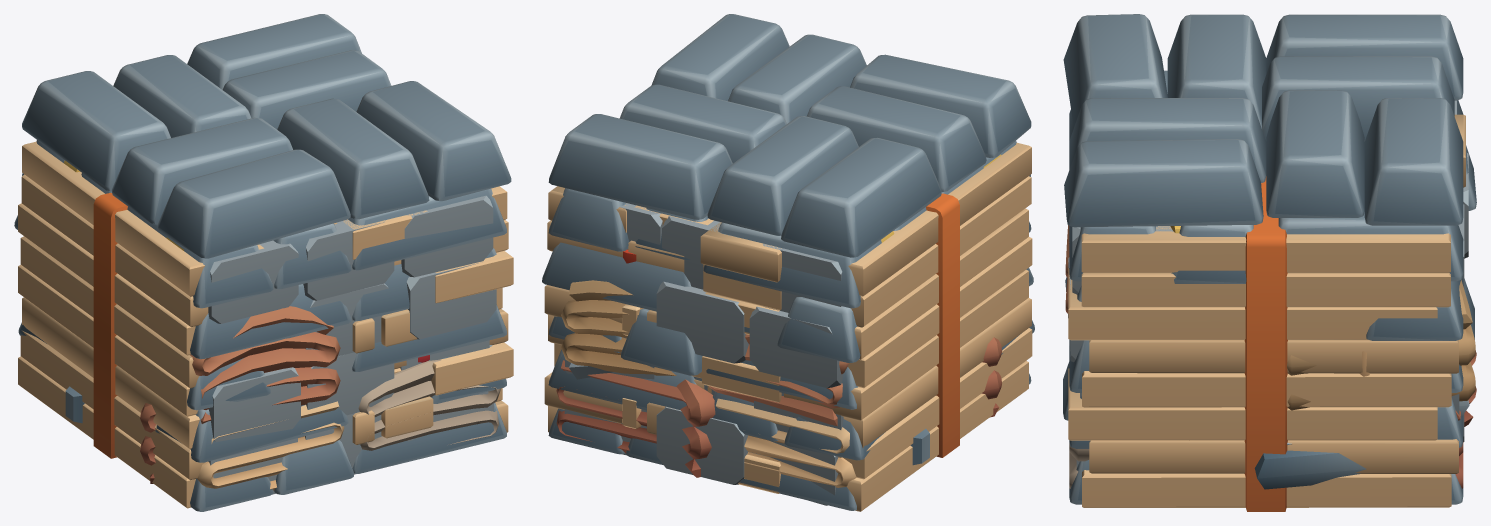
The model's file is resource-bits.glb.
3 renders of one model, left to right at view 1: azimuth 30°, elevation 25°; view 2: azimuth 150°, elevation 25°; view 3: azimuth 270°, elevation 25°, orthographic. The views are drawn at different scales.
Visible parts, largest first — view 1: Iron_Bars_Stack_Large, Wood_Planks_Stack_Large, Stone_Bricks_Stack_Large, Textiles_Stack_Large, Wood_Planks_Stack_Small, Textiles_Stack_Small, Parts_Pile_Large; view 2: Iron_Bars_Stack_Large, Wood_Planks_Stack_Large, Stone_Bricks_Stack_Large, Textiles_Stack_Large, Textiles_Stack_Small, Wood_Planks_Stack_Small, Parts_Pile_Large; view 3: Wood_Planks_Stack_Large, Iron_Bars_Stack_Large, Parts_Pile_Large, Textiles_Stack_Large, Stone_Bricks_Stack_Large.
Part boxes in pixels (<box>): Iron_Bars_Stack_Large: <box>14,14,511,511</box>; Wood_Planks_Stack_Large: <box>18,141,513,508</box>; Stone_Bricks_Stack_Large: <box>64,160,496,494</box>; Textiles_Stack_Large: <box>190,306,500,490</box>; Wood_Planks_Stack_Small: <box>352,396,433,444</box>; Textiles_Stack_Small: <box>140,403,155,483</box>; Parts_Pile_Large: <box>65,386,84,423</box>; Iron_Bars_Stack_Large: <box>542,14,1034,510</box>; Wood_Planks_Stack_Large: <box>544,142,1032,511</box>; Stone_Bricks_Stack_Large: <box>564,154,1001,505</box>; Textiles_Stack_Large: <box>556,280,856,487</box>; Textiles_Stack_Small: <box>676,337,1001,477</box>; Wood_Planks_Stack_Small: <box>622,398,780,493</box>; Parts_Pile_Large: <box>569,363,929,465</box>; Wood_Planks_Stack_Large: <box>1068,114,1465,511</box>; Iron_Bars_Stack_Large: <box>1063,14,1476,504</box>; Parts_Pile_Large: <box>1254,400,1469,489</box>; Textiles_Stack_Large: <box>1065,225,1475,488</box>; Stone_Bricks_Stack_Large: <box>1068,100,1468,468</box>.
Bounding box in the file's own units: 1.75 × 1.7 × 1.68.
Materials: 1 (1 with a texture image).
